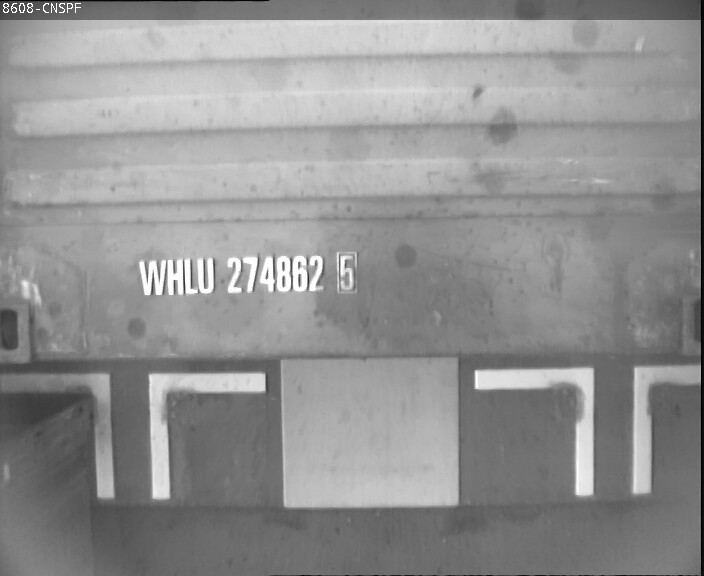groundmarker_1: (1, 370, 264, 501), (471, 367, 704, 497)
